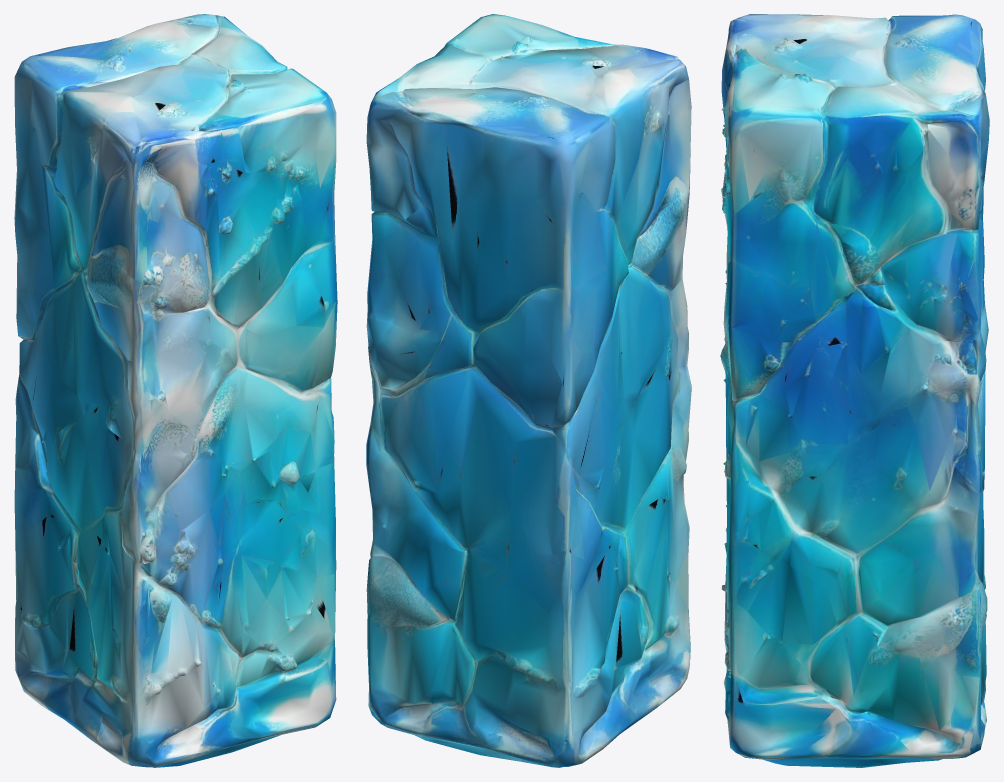
File: buz_dikey_kup_parcali.glb
3 views of the same model, side by side, from view 1: azimuth 30°, elevation 25°; view 2: azimuth 150°, elevation 25°; view 3: azimuth 270°, elevation 25° (orthographic). The views are drawn at different scales.
Visible parts, largest first — view 1: p08, p02, p10, p01, p11, p00, p04, p09, p06, p05; view 2: p01, p05, p06, p03, p00, p10, p11, p08, p02; view 3: p11, p01, p09, p03, p04, p07, p02, p05, p10, p08.
Part boxes in pixels (x1,y1,x2,y2): p08: (85,495,310,767); p02: (96,120,337,336); p10: (42,245,261,460); p01: (14,14,236,318); p11: (109,27,336,218); p00: (36,372,241,590); p04: (167,504,336,766); p09: (221,303,337,511); p06: (14,465,102,744); p05: (15,298,51,477); p01: (366,74,663,383); p05: (366,317,610,558); p06: (422,529,660,767); p03: (366,500,468,743); p00: (595,372,691,570); p10: (595,190,689,402); p11: (392,14,676,83); p08: (634,506,690,704); p02: (651,57,691,211); p11: (722,14,933,246); p01: (797,14,989,344); p09: (723,306,932,533); p03: (826,519,987,765); p04: (723,532,883,767); p07: (734,379,978,585); p02: (721,14,875,327); p05: (923,277,988,522); p10: (720,237,730,396); p08: (721,458,730,679).
Bounding box in the file's own units: 0.3406 × 0.9818 × 0.356.
2 materials, 1 textured.
